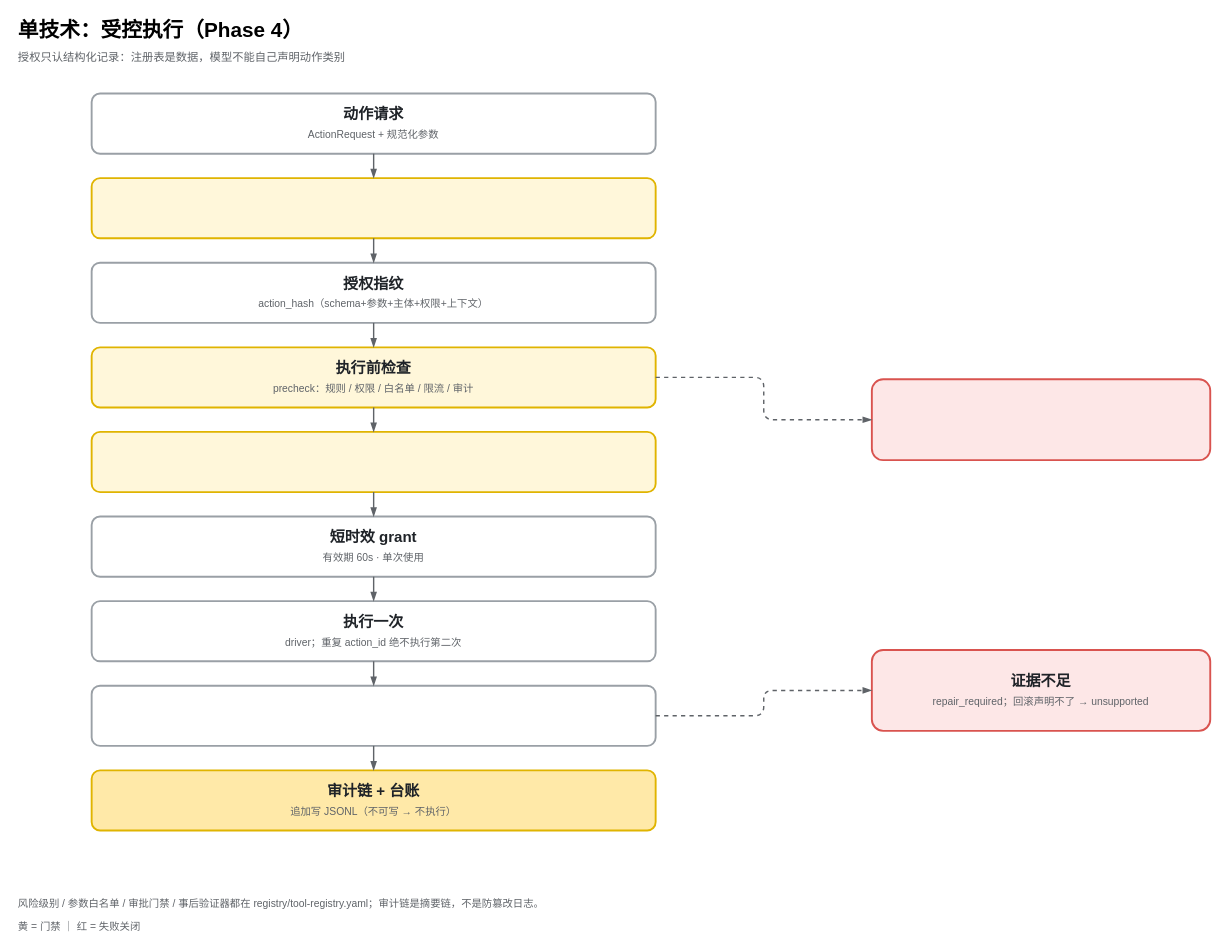
The diagram is 1227 pixels wide and 951 high, and some of its shapes have lost their labels. Each missing label, with the box of its shape:
事后验证 前后哈希 / diff 摘要 / 退出码: (90, 684, 656, 746)
注册表审核 approved.json 哈希比对（漂移 → 不可用）: (90, 177, 656, 239)
结构性阻断 command_composition_blocked / fragment_blocked: (870, 378, 1211, 461)
高风险审批 destructive / external / privileged → 人工: (90, 431, 656, 493)
